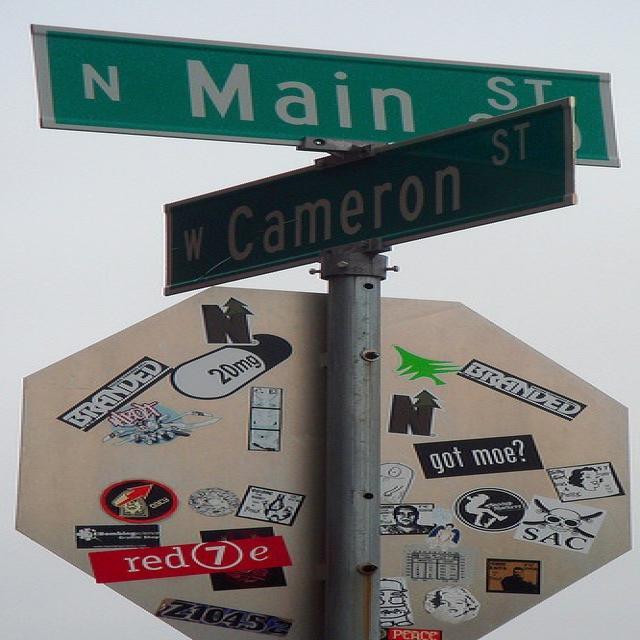pole: (308, 246, 410, 636)
